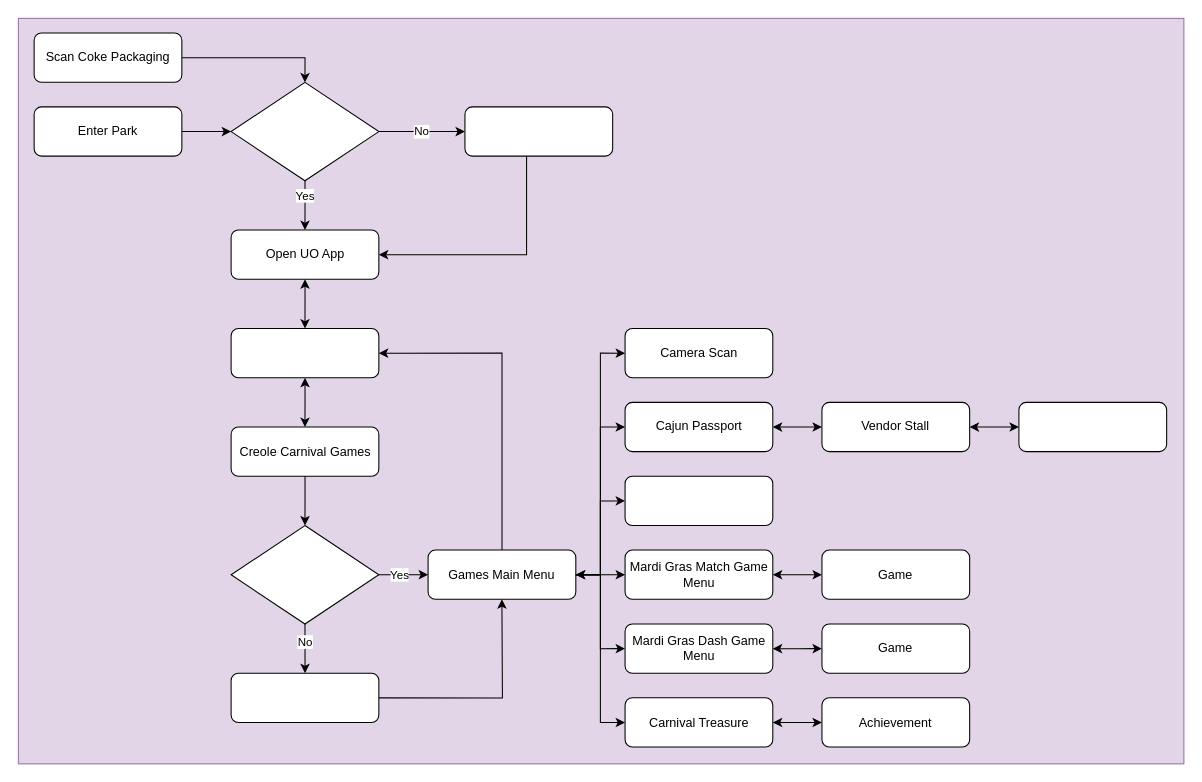
Some shapes in this 1202 by 782 pixel diagram are drawn without their labels. Here are the shapes that lost their labels. From the top down, the centre of each, then its label:
pixel 304 131: UO App Downloaded?
pixel 538 131: Download
pixel 304 352: Universal Play ™
pixel 1092 426: Recommendations
pixel 698 500: Creole Chronicles
pixel 304 574: Scanned In?
pixel 304 697: Create Player Name
